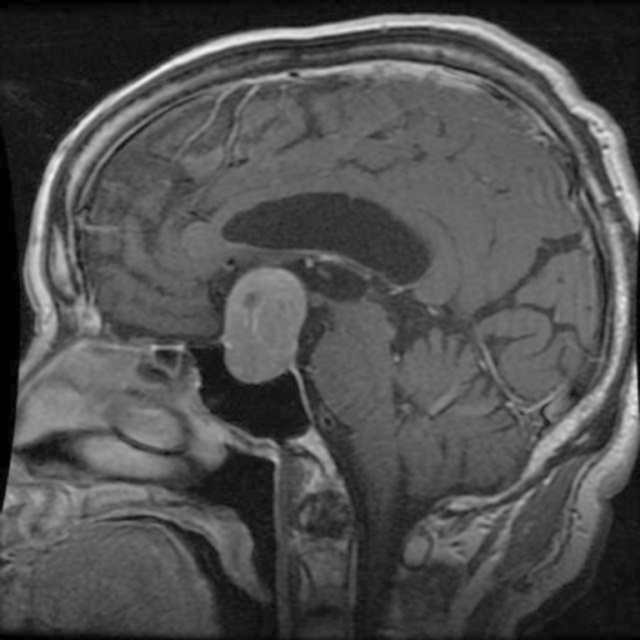no tumor: (221, 263, 310, 382)
